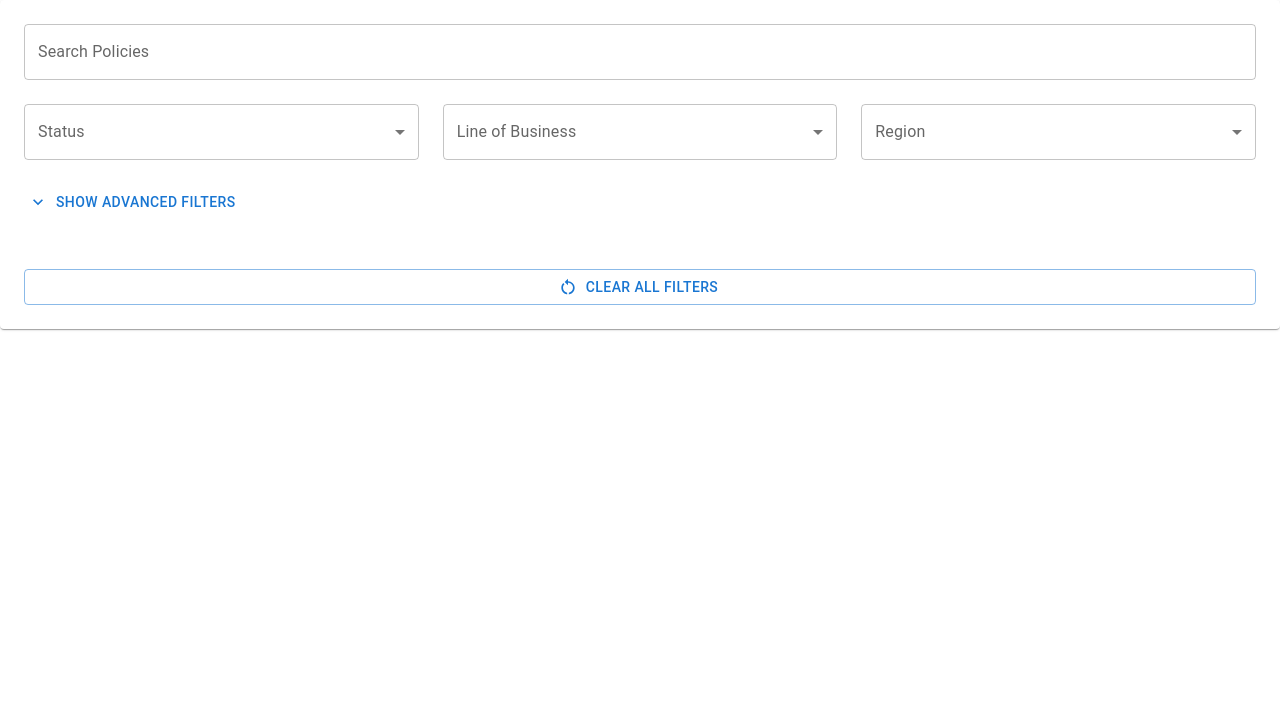
FilterBarMUI › toggles advanced filters visibility
The width and height of the screenshot is (1280, 720).
Expected: the field labelled "effective date from" is not shown
Click the button "Show Advanced Filters" at coordinates (77, 202), box [24,184,1256,220]
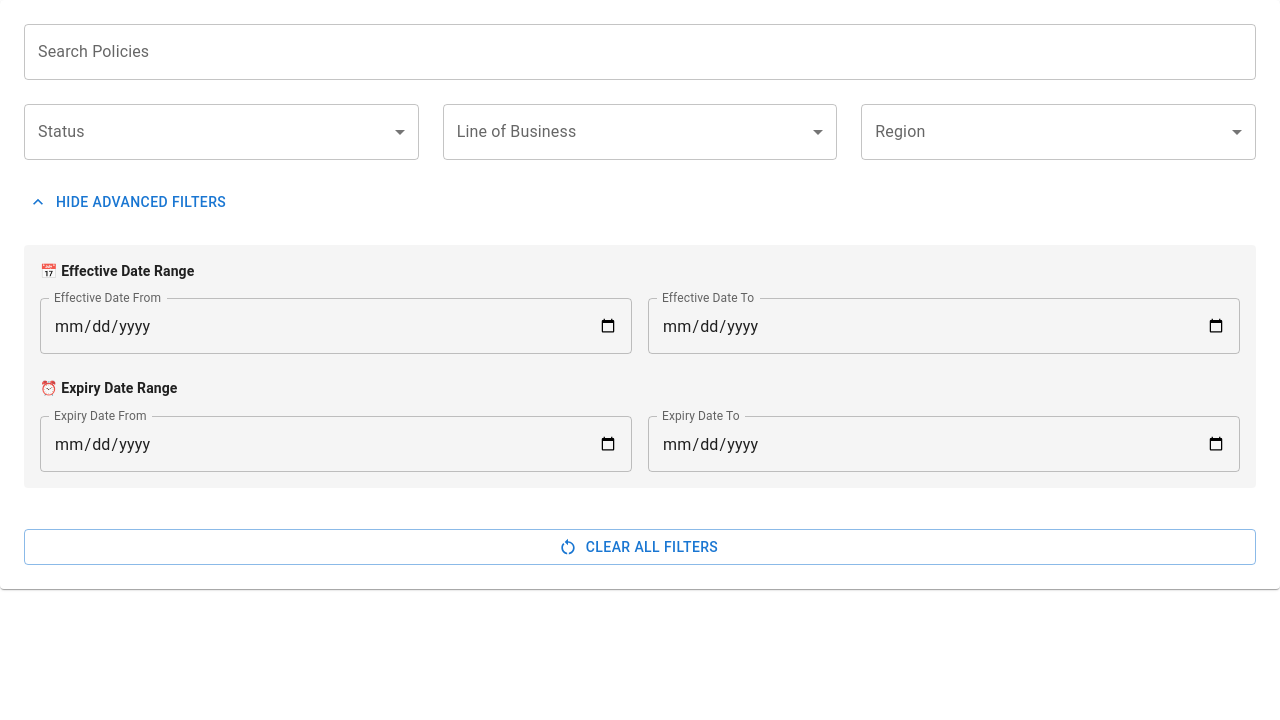
Result: the date field labelled "Effective Date From" is shown at [40,298,632,354]
Result: the button "Hide Advanced Filters" is shown
Click the button "Hide Advanced Filters" at coordinates (72, 202), box [24,184,1256,220]
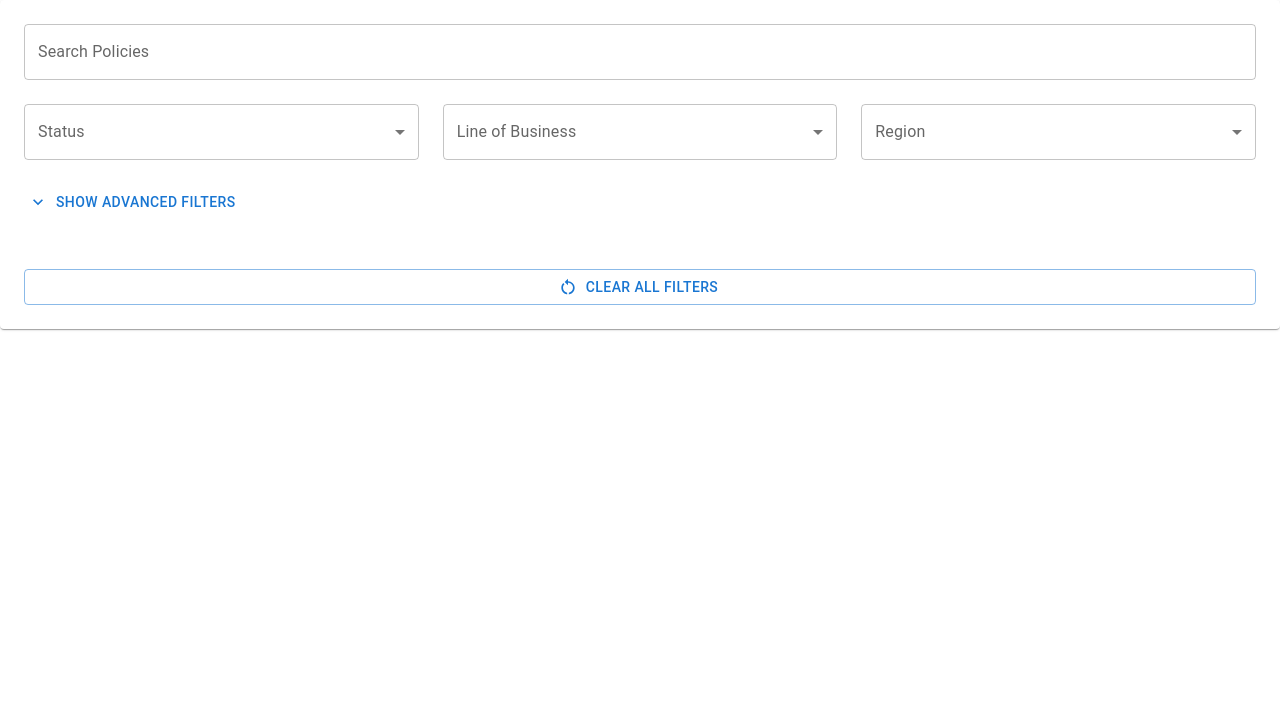
Result: the label labelled "Effective Date From" is gone
Result: the button "Show Advanced Filters" is shown at [24,184,1256,220]
